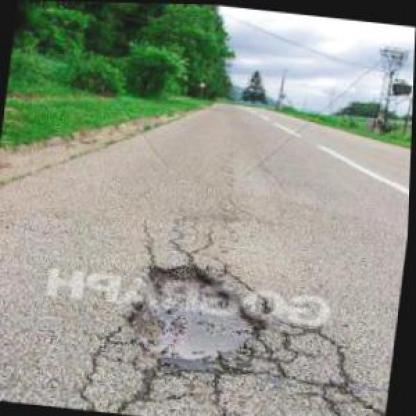pothole: (119, 255, 279, 380)
